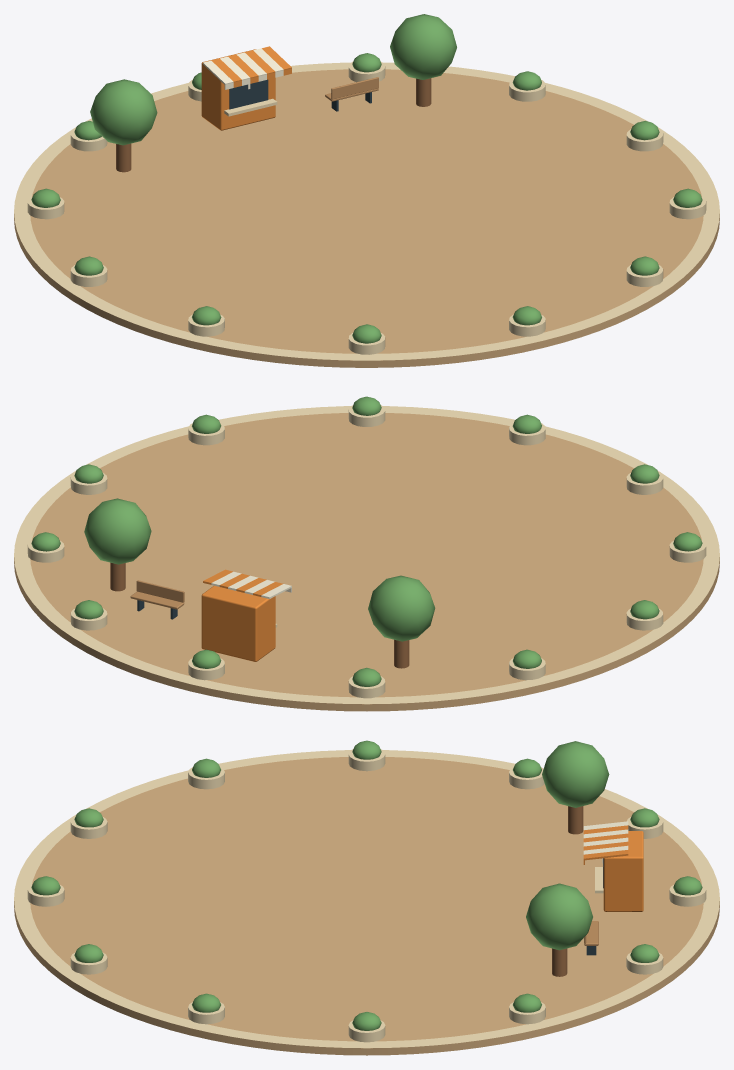
File: info-plaza.glb
The picture shows the model from 3 angles, top to bottom: view 1: azimuth 30°, elevation 25°; view 2: azimuth 150°, elevation 25°; view 3: azimuth 270°, elevation 25°; orthographic projection.
Parts seen in each view (by area): view 1: Paving, PavingBorder, RoundFoliage (×2), KioskBody, Window, Back; view 2: Paving, PavingBorder, RoundFoliage (×2), CreamPot (×10), KioskBody, Back; view 3: Paving, PavingBorder, RoundFoliage (×2), CreamPot (×9), KioskBody.
Part boxes in pixels (box(x1,y1,x2,y2)): Paving: box(14, 69, 719, 367); PavingBorder: box(14, 62, 719, 360); RoundFoliage (×2): box(90, 14, 456, 145); KioskBody: box(201, 49, 275, 130); Window: box(229, 79, 268, 109); Back: box(331, 77, 378, 99); Paving: box(14, 413, 719, 711); PavingBorder: box(14, 406, 719, 704); RoundFoliage (×2): box(84, 498, 435, 641); CreamPot (×10): box(27, 405, 706, 698); KioskBody: box(201, 585, 275, 661); Back: box(136, 580, 184, 602); Paving: box(14, 757, 719, 1055); PavingBorder: box(14, 750, 719, 1048); RoundFoliage (×2): box(526, 741, 609, 950); CreamPot (×9): box(27, 749, 706, 1042); KioskBody: box(603, 831, 643, 911).
Bounding box in the file's own units: 44 × 6.5 × 44.
